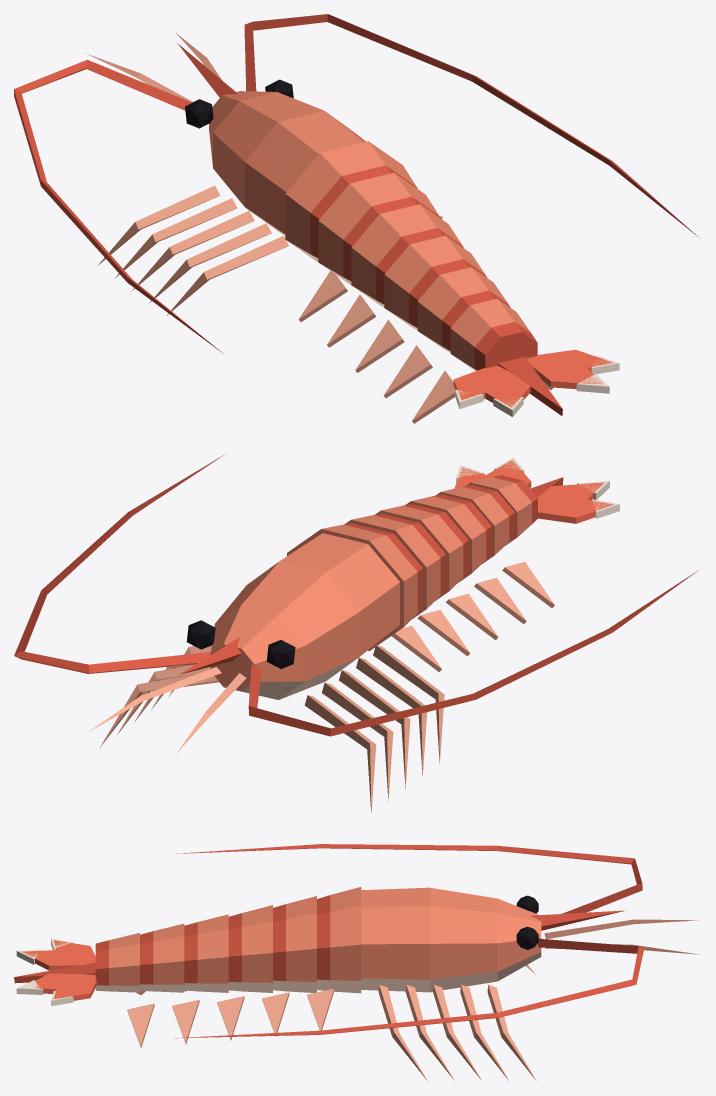
File: skipping-shrimp.glb
3 renders of one model, top to bottom at view 1: azimuth 30°, elevation 25°; view 2: azimuth 150°, elevation 25°; view 3: azimuth 270°, elevation 25°, orthographic. The views are drawn at different scales.
Parts seen in each view (by area): view 1: skipping_shrimp; view 2: skipping_shrimp; view 3: skipping_shrimp.
Part boxes in pixels (<box>): skipping_shrimp: <box>14,14,700,423</box>; skipping_shrimp: <box>14,454,698,813</box>; skipping_shrimp: <box>14,844,699,1080</box>.
Bounding box in the file's own units: 3.27 × 1.08 × 5.05.
